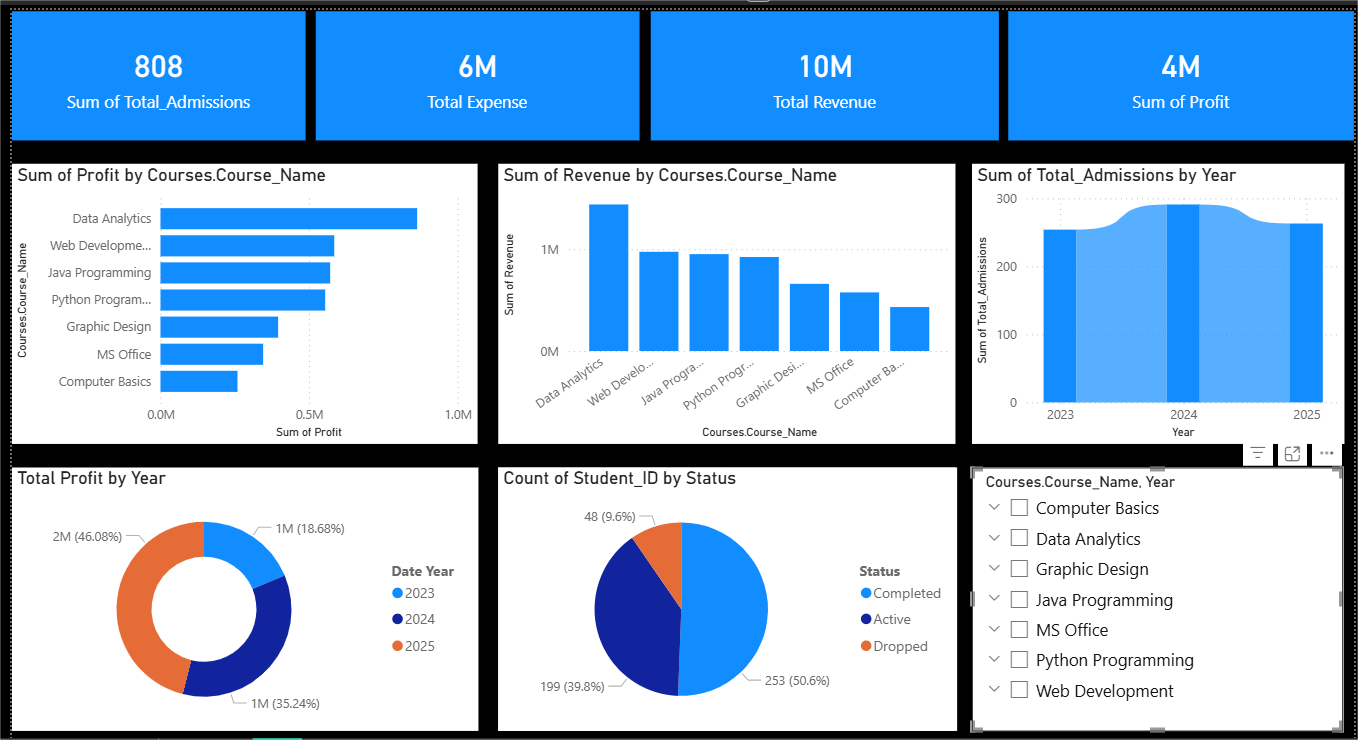

The page's visual inventory and layout, read from the dashboard file:
{"tool":"powerbi","page":{"name":"Page 1","canvas":[1280,720],"ordinal":0},"visuals":[{"type":"card","fields":{"Values":["Sum(Finance.Total_Admissions)"]},"box":[0,0,279.9,123.5],"z":0},{"type":"card","fields":{"Values":["Certificates.Total Expense"]},"box":[289.5,0,308.7,123.5],"z":1000},{"type":"card","fields":{"Values":["Certificates.Total Revenue"]},"box":[609.3,0,332.1,123.5],"z":2000},{"type":"card","fields":{"Values":["Sum(Students.Profit)"]},"box":[950.9,0,329.3,123.5],"z":3000},{"type":"clusteredBarChart","fields":{"Category":["Students.Courses.Course_Name"],"Y":["Sum(Students.Profit)"]},"box":[0,146.8,444.1,267.5],"z":4000},{"type":"clusteredColumnChart","fields":{"Category":["Students.Courses.Course_Name"],"Y":["Sum(Students.Revenue )"]},"box":[463.8,146.8,436.4,267.6],"z":5000},{"type":"ribbonChart","fields":{"Y":["Sum(Finance.Total_Admissions)"],"Category":["Date_Table.Date.Variation.Date Hierarchy.Year"]},"box":[915.3,146.8,355.4,267.6],"z":6000},{"type":"slicer","fields":{"Values":["Students.Courses.Course_Name","Date_Table.Date.Variation.Date Hierarchy.Year"]},"box":[915.6,436.6,354.5,278.6],"z":7000},{"type":"areaChart","fields":{"Category":["Students.Gender"],"Y":["Sum(Students.Revenue)"]},"box":[463.8,436.4,436.4,267.6],"z":8000},{"type":"donutChart","fields":{"Category":["Date_Table.Date.Variation.Date Hierarchy.Year","Date_Table.Date.Variation.Date Hierarchy.Quarter","Date_Table.Date.Variation.Date Hierarchy.Month","Date_Table.Date.Variation.Date Hierarchy.Day"],"Y":["Certificates.Total Profit"]},"box":[0,436.4,444.6,267.6],"z":9000},{"type":"pieChart","fields":{"Category":["Students.Status"],"Y":["CountNonNull(Students.Student_ID)"]},"box":[464,436.6,436.6,272.4],"z":10000}]}

Visuals, with their boxes in screenshot pixels (x1, y1, x2, y2):
card - Sum(Finance.Total_Admissions): (left=7, top=0, right=301, bottom=130)
card - Certificates.Total Expense: (left=311, top=0, right=635, bottom=130)
card - Certificates.Total Revenue: (left=647, top=0, right=995, bottom=130)
card - Sum(Students.Profit): (left=1005, top=0, right=1351, bottom=130)
clusteredBarChart - Students.Courses.Course_Name x Sum(Students.Profit): (left=7, top=154, right=473, bottom=435)
clusteredColumnChart - Students.Courses.Course_Name x Sum(Students.Revenue ): (left=494, top=154, right=952, bottom=435)
ribbonChart - Sum(Finance.Total_Admissions) x Date_Table.Date.Variation.Date Hierarchy.Year: (left=968, top=154, right=1341, bottom=435)
slicer - Students.Courses.Course_Name x Date_Table.Date.Variation.Date Hierarchy.Year: (left=968, top=458, right=1340, bottom=739)
areaChart - Students.Gender x Sum(Students.Revenue): (left=494, top=458, right=952, bottom=739)
donutChart - Date_Table.Date.Variation.Date Hierarchy.Year x Date_Table.Date.Variation.Date Hierarchy.Quarter: (left=7, top=458, right=474, bottom=739)
pieChart - Students.Status x CountNonNull(Students.Student_ID): (left=494, top=458, right=952, bottom=739)
